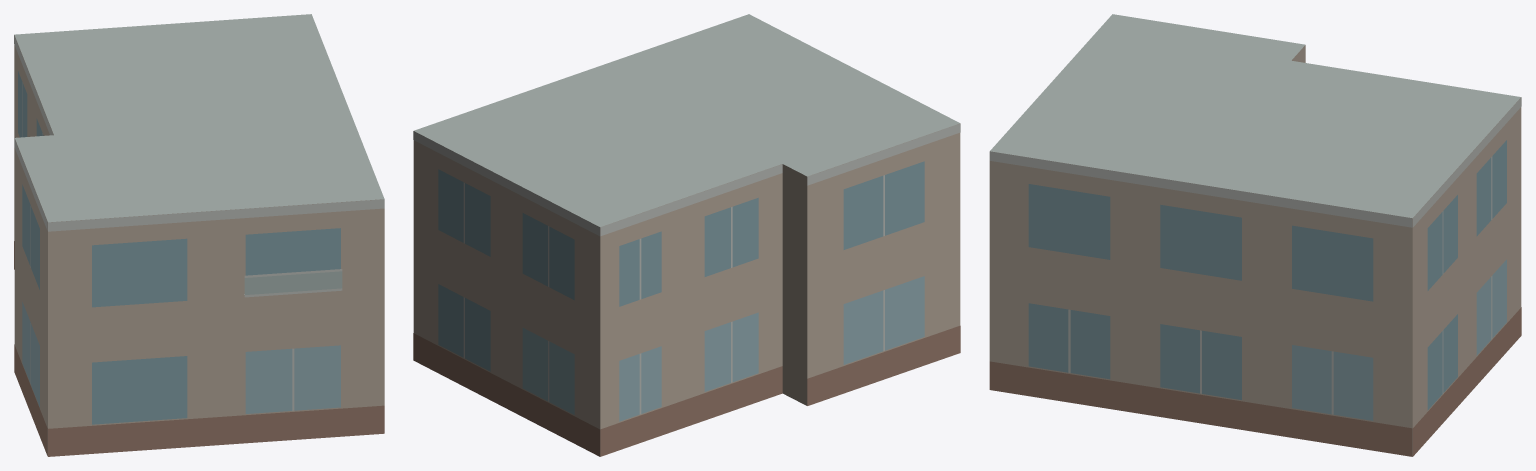
File: survey-upis-32806046.glb
3 renders of one model, left to right at view 1: azimuth 30°, elevation 25°; view 2: azimuth 150°, elevation 25°; view 3: azimuth 270°, elevation 25°, orthographic. The views are drawn at different scales.
Visible parts, largest first — view 1: survey-upis-32806046.tmp; view 2: survey-upis-32806046.tmp; view 3: survey-upis-32806046.tmp.
Part boxes in pixels (x1,y1,x2,y2): survey-upis-32806046.tmp: (14,14,384,456); survey-upis-32806046.tmp: (413,14,960,456); survey-upis-32806046.tmp: (989,14,1521,456).
Bounding box in the file's own units: 11.2 × 6.1 × 12.33.
